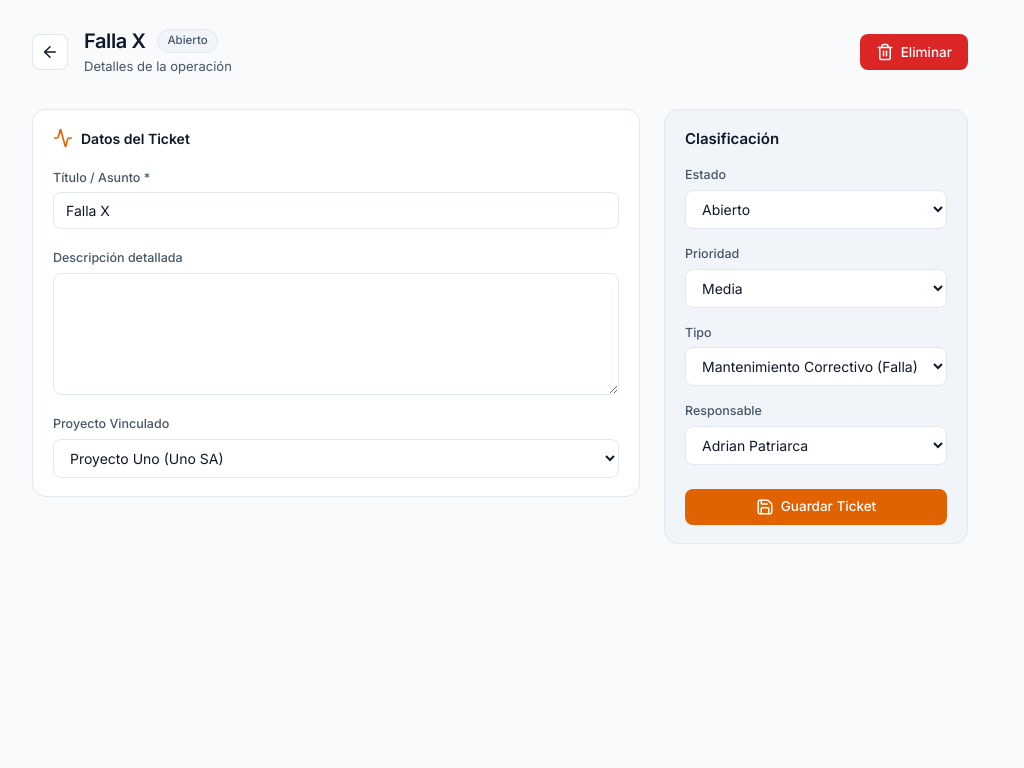
it: TicketDetalle — pantalla › al guardar un ticket existente avisa "Ticket guardado"
Expected: the field showing "Falla X" is shown, [53,192,619,229]
Click the button "Guardar Ticket".
click(816, 507)  # box [685,489,947,525]
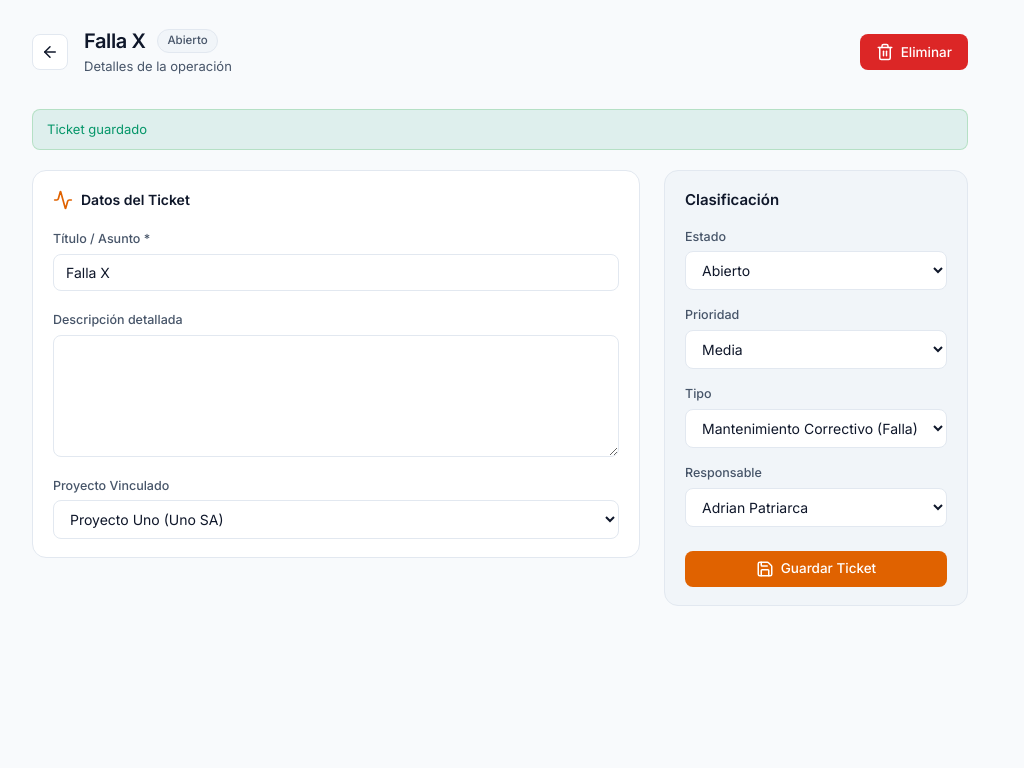
Expected: the text "Ticket guardado" is shown, [32,108,968,150]
